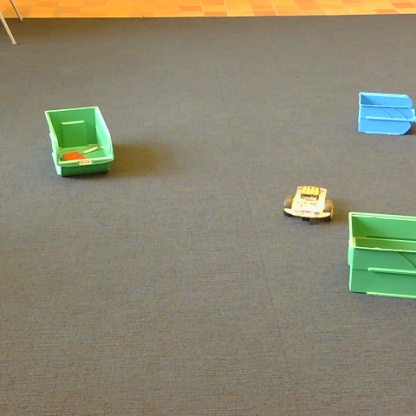robot: (284, 186, 333, 221)
